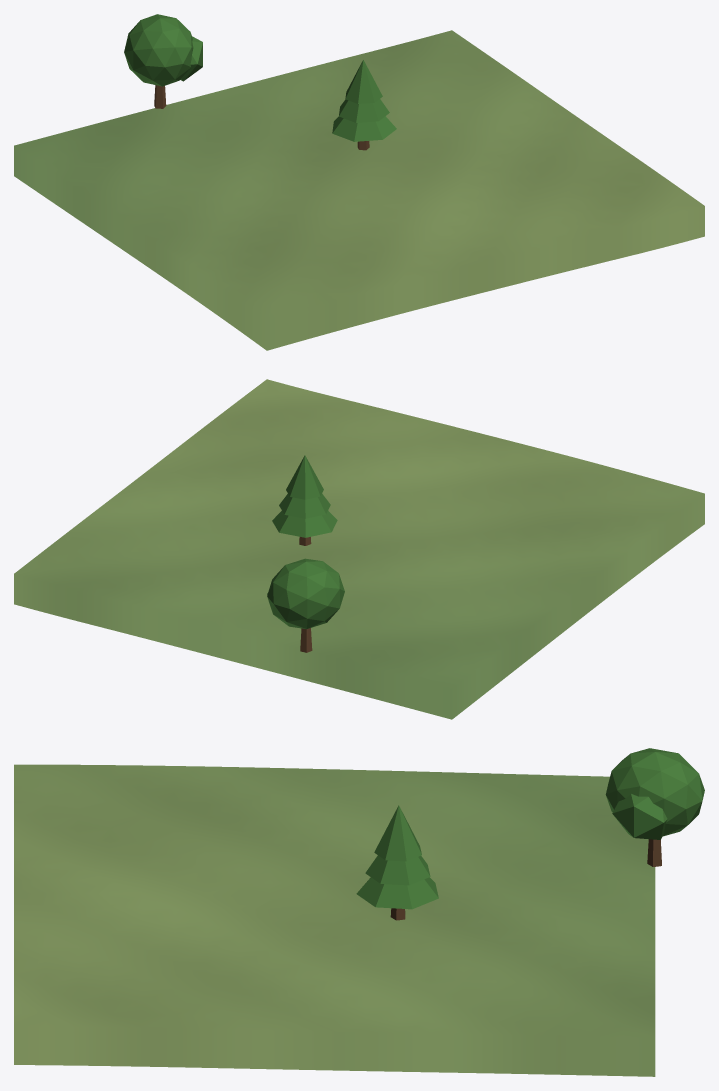
The picture shows the model from 3 angles, top to bottom: view 1: azimuth 30°, elevation 25°; view 2: azimuth 150°, elevation 25°; view 3: azimuth 270°, elevation 25°; orthographic projection. The views are drawn at different scales.
Parts seen in each view (by area): view 1: terrain, scenery; view 2: terrain, scenery; view 3: terrain, scenery.
Boxes of the visible parts, left/top/right/bottom form: terrain: left=14, top=30, right=704, bottom=350; scenery: left=124, top=14, right=396, bottom=150; terrain: left=14, top=379, right=704, bottom=719; scenery: left=267, top=455, right=344, bottom=652; terrain: left=14, top=764, right=655, bottom=1076; scenery: left=356, top=748, right=704, bottom=920.
Size of the model in its own units: 30 by 8.52 by 32.32.
